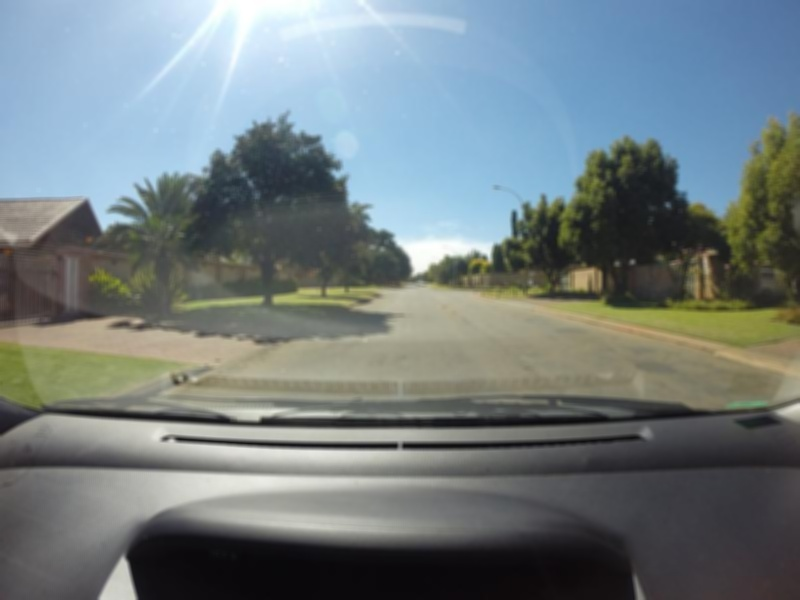pothole: (522, 363, 533, 373)
